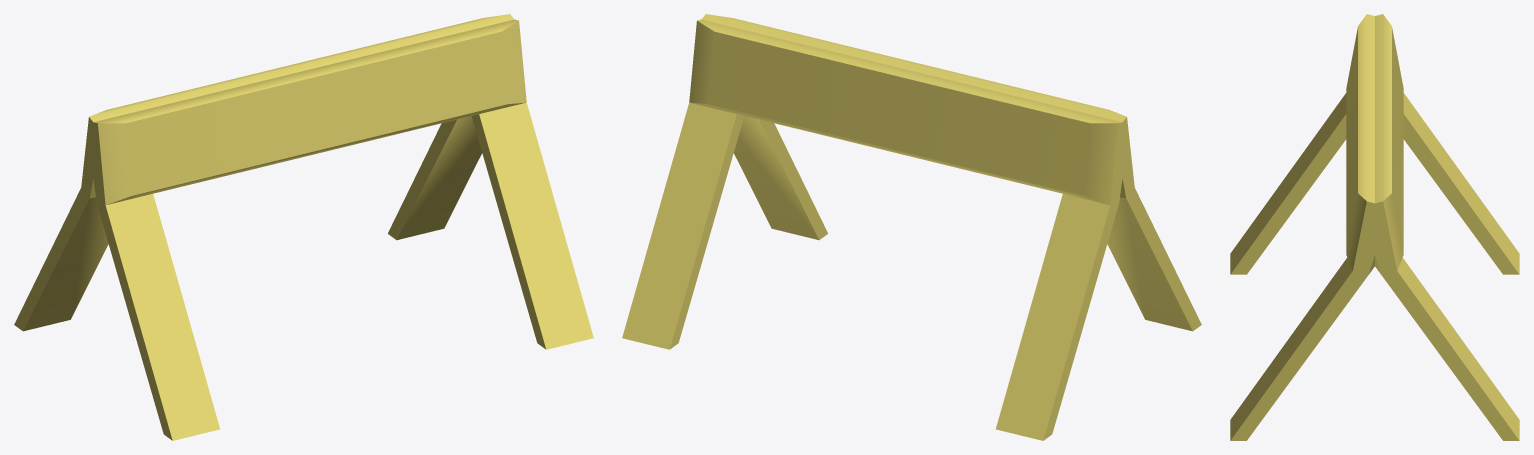
Rendered from Barrier1.fbx.
The picture shows the model from 3 angles, left to right: view 1: azimuth 30°, elevation 25°; view 2: azimuth 150°, elevation 25°; view 3: azimuth 270°, elevation 25°; orthographic projection. The views are drawn at different scales.
Visible parts, largest first — view 1: Barrier1; view 2: Barrier1; view 3: Barrier1.
Boxes of the visible parts, x1=… form: Barrier1: x1=14, y1=14, x2=593, y2=440; Barrier1: x1=622, y1=14, x2=1201, y2=440; Barrier1: x1=1230, y1=14, x2=1519, y2=440.
Bounding box in the file's own units: 2.61 × 1.56 × 1.7.
